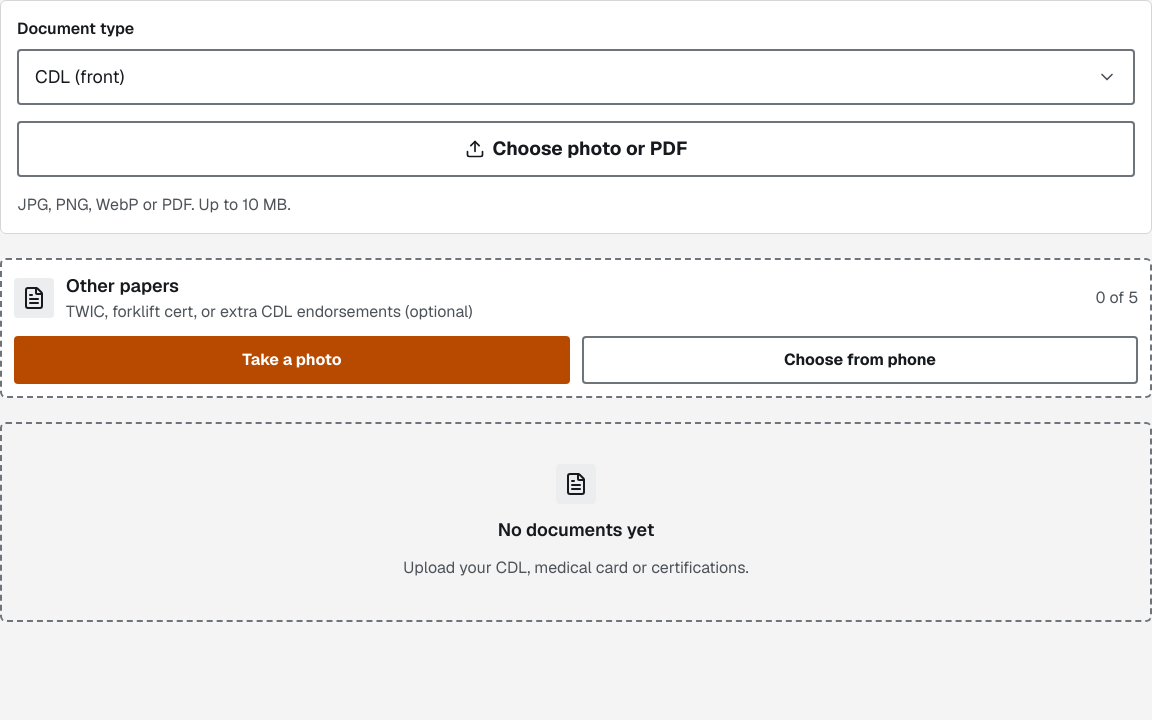
Scenario: DocumentUploader › uploads: compress, reserve, send to storage, confirm, then list
Click the dropdown named "Document type": x=80, y=76 [17,49,1135,105]
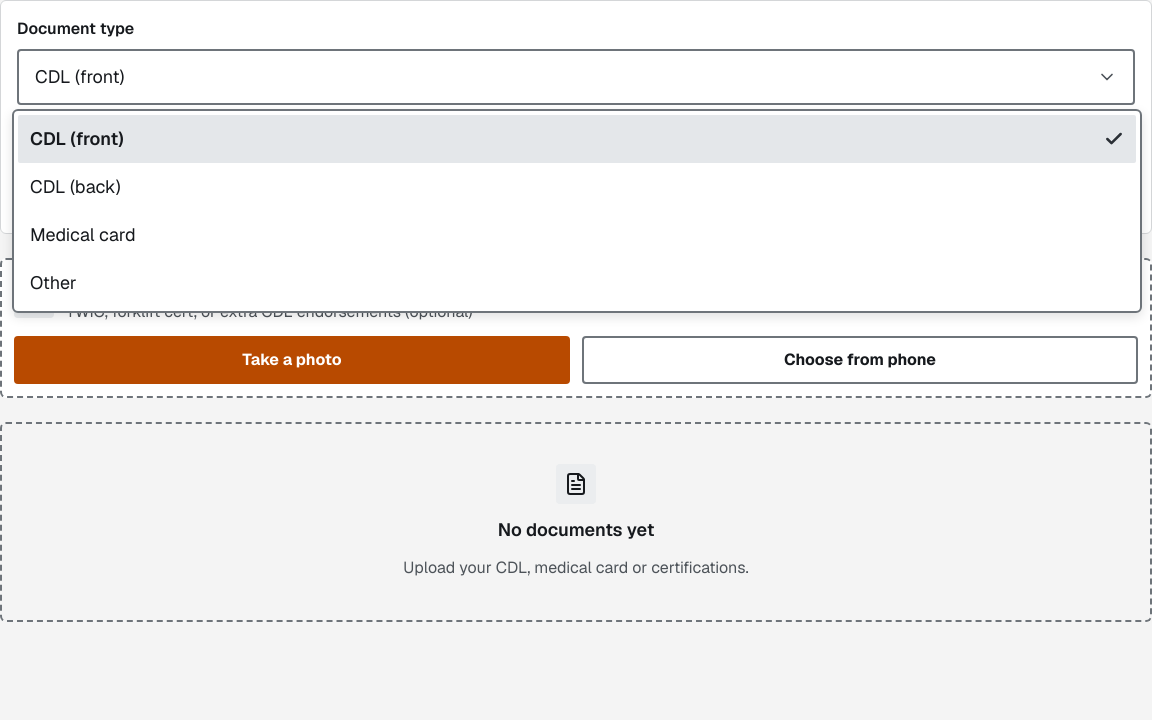
Click the option "CDL (back)": x=75, y=186 [30,175,121,198]
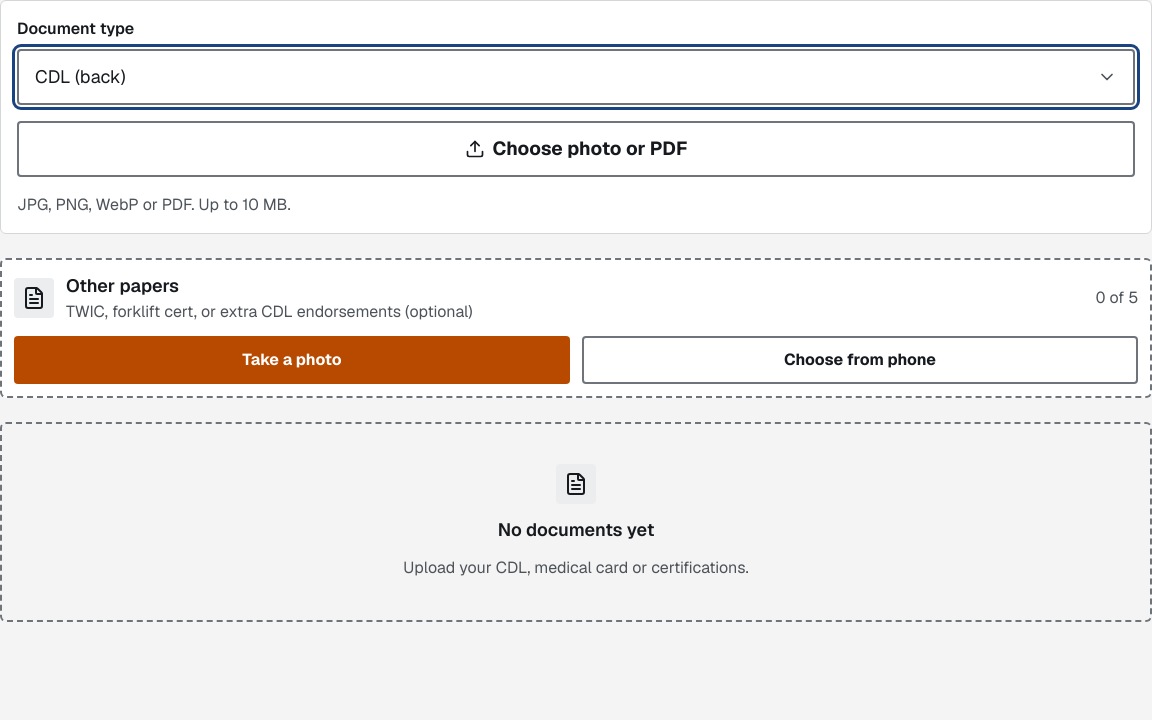
Check: the dropdown named "Document type" reads "CDL (back)", box [17,49,1135,105]
